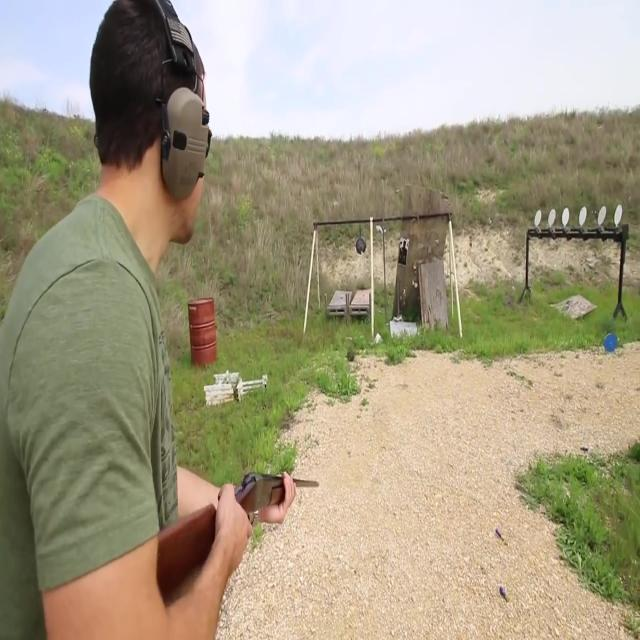Weapon: (143, 441, 335, 609)
